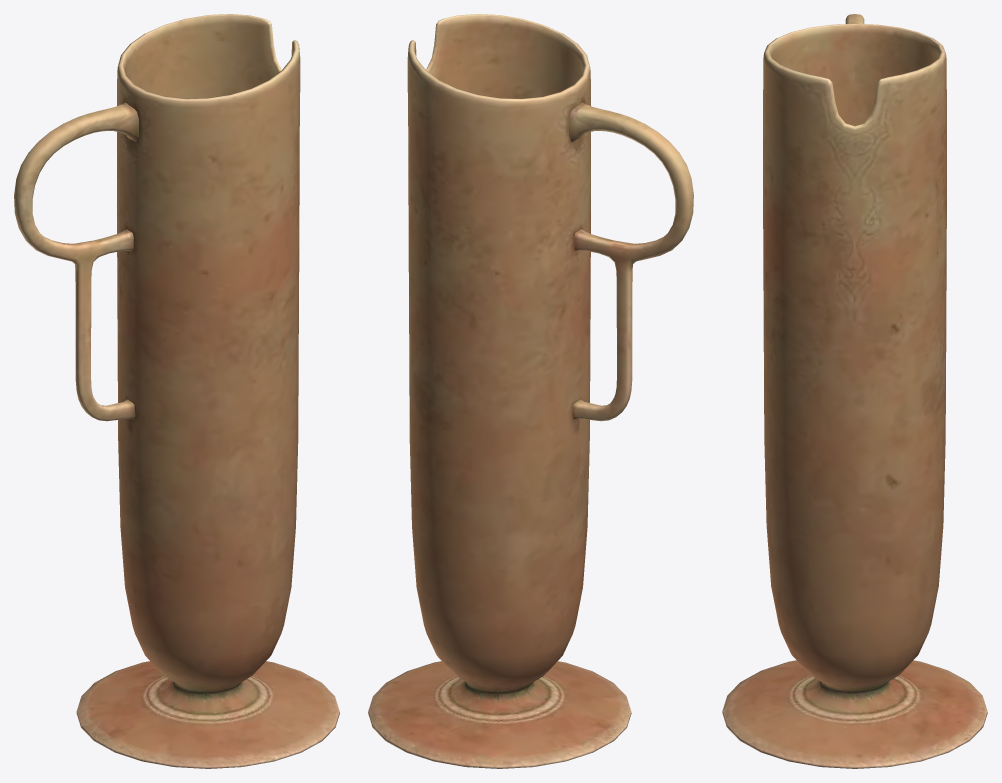
File: brass_vase_04.5558e9e7.glb
3 views of the same model, side by side, from view 1: azimuth 30°, elevation 25°; view 2: azimuth 150°, elevation 25°; view 3: azimuth 270°, elevation 25° (orthographic).
Parts seen in each view (by area): view 1: brass_vase_04; view 2: brass_vase_04; view 3: brass_vase_04.
Part boxes in pixels (x1,y1,x2,y2): brass_vase_04: [14, 14, 339, 768]; brass_vase_04: [368, 14, 693, 768]; brass_vase_04: [722, 14, 987, 768].
Size of the model in its own units: 0.4814 by 1 by 0.3586.
1 material, 1 textured.
